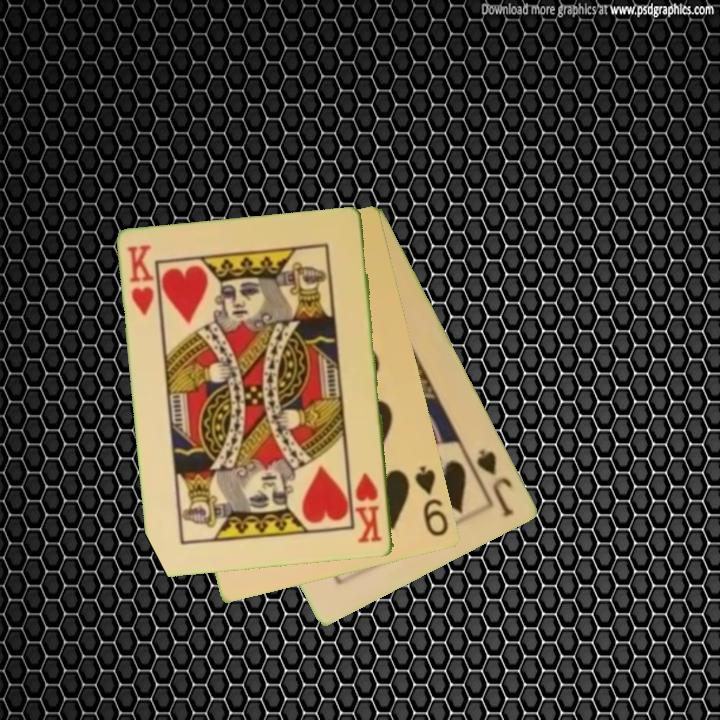9s: (412, 462, 452, 540)
Js: (473, 445, 518, 521)
Kh: (125, 241, 158, 319), (352, 470, 385, 547)
